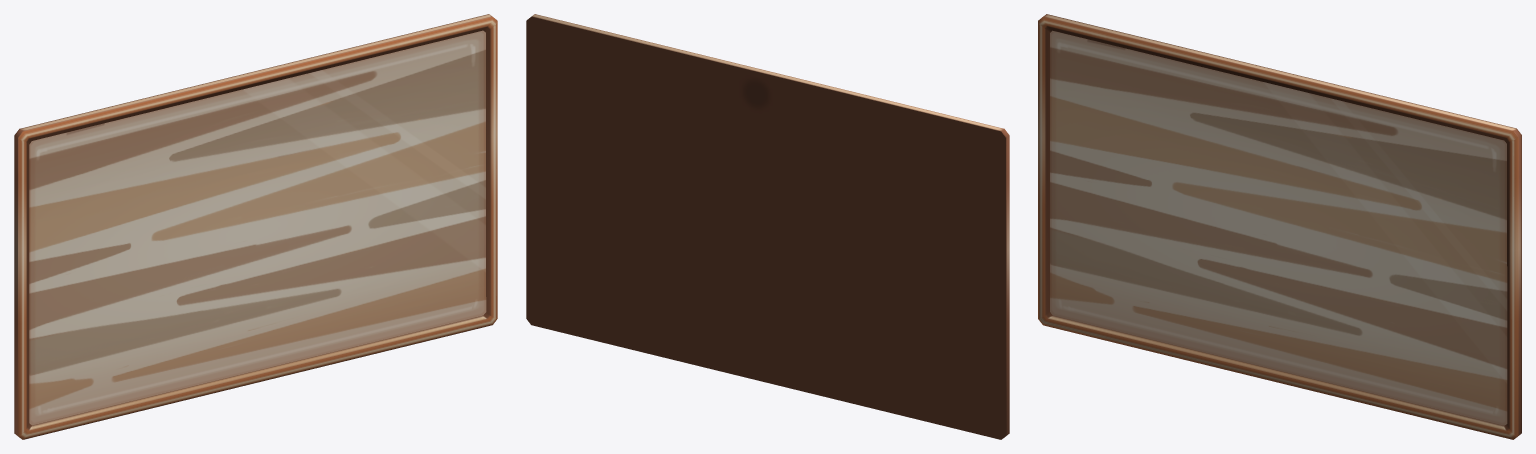
The model's file is bathroom_painting_frame_2.fbx.
The picture shows the model from 3 angles, left to right: view 1: azimuth 30°, elevation 25°; view 2: azimuth 150°, elevation 25°; view 3: azimuth 330°, elevation 25°; orthographic projection.
Parts seen in each view (by area): view 1: bathroom_painting_frame_2; view 2: bathroom_painting_frame_2; view 3: bathroom_painting_frame_2.
Boxes of the visible parts, x1,y1,x2,y2 form: bathroom_painting_frame_2: (14,14,497,439); bathroom_painting_frame_2: (526,14,1009,439); bathroom_painting_frame_2: (1038,14,1521,439).
Size of the model in its own units: 42.99 by 26.43 by 0.7442.
